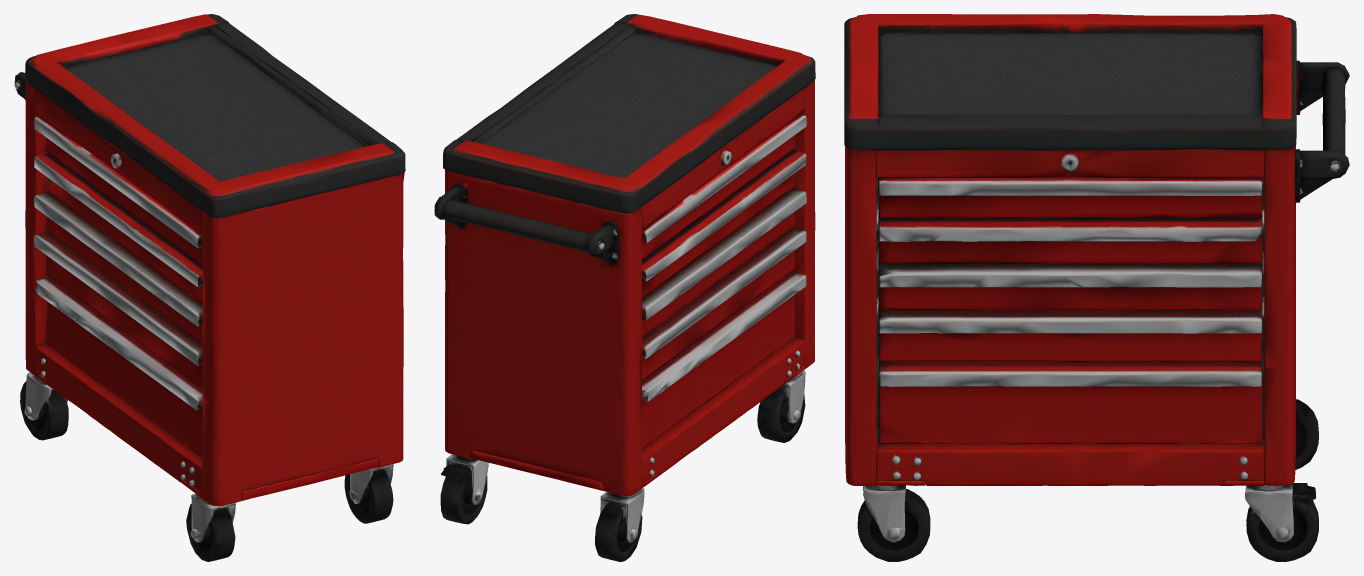
Rendered from tool_chest.glb.
The picture shows the model from 3 angles, left to right: view 1: azimuth 30°, elevation 25°; view 2: azimuth 150°, elevation 25°; view 3: azimuth 270°, elevation 25°; orthographic projection. The views are drawn at different scales.
Parts seen in each view (by area): view 1: tripo_node_4d57b72a-3d5d-4b45-81ed-cbf7d6e842d4; view 2: tripo_node_4d57b72a-3d5d-4b45-81ed-cbf7d6e842d4; view 3: tripo_node_4d57b72a-3d5d-4b45-81ed-cbf7d6e842d4.
Boxes of the visible parts, <box> form: tripo_node_4d57b72a-3d5d-4b45-81ed-cbf7d6e842d4: <box>14,14,405,561</box>; tripo_node_4d57b72a-3d5d-4b45-81ed-cbf7d6e842d4: <box>434,14,815,561</box>; tripo_node_4d57b72a-3d5d-4b45-81ed-cbf7d6e842d4: <box>844,14,1349,561</box>.
Bounding box in the file's own units: 0.5201 × 0.9527 × 0.9793.
1 material, 1 textured.
